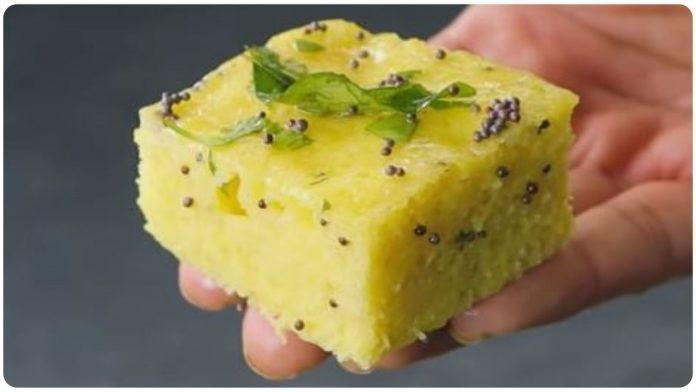dhokla: (138, 23, 579, 369)
